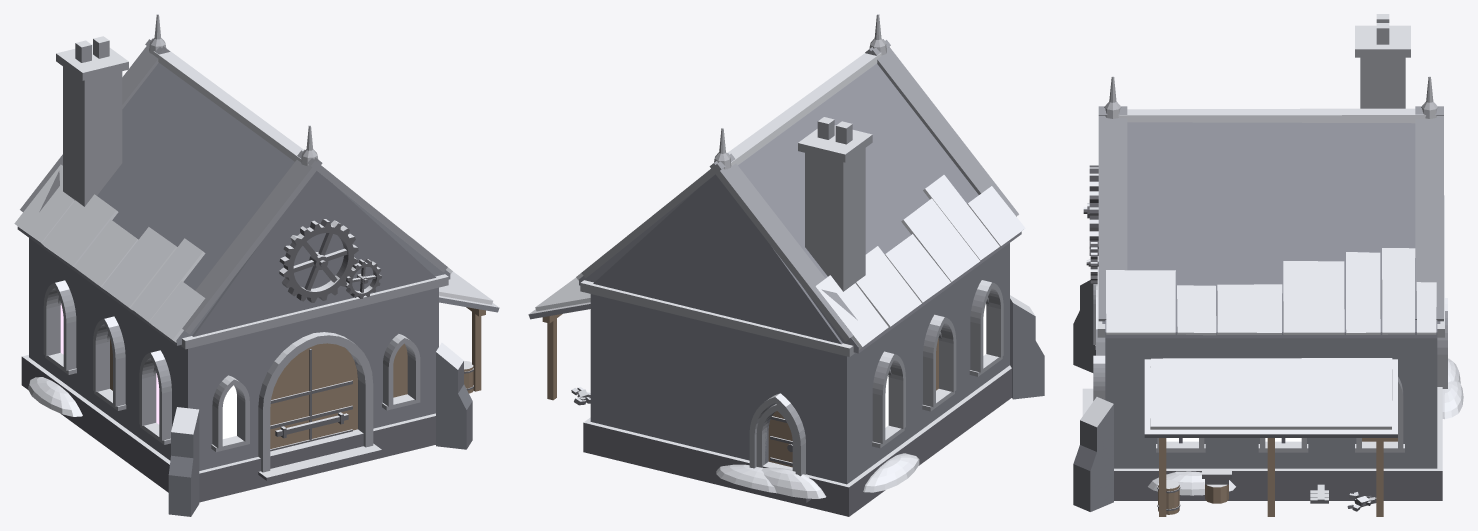
File: AR_Oficina.fbx
3 views of the same model, side by side, from view 1: azimuth 30°, elevation 25°; view 2: azimuth 150°, elevation 25°; view 3: azimuth 270°, elevation 25° (orthographic). The views are drawn at different scales.
Visible parts, largest first — view 1: AR_Oficina; view 2: AR_Oficina; view 3: AR_Oficina.
Boxes of the visible parts, bbox=[...] form: AR_Oficina: bbox=[14, 14, 499, 516]; AR_Oficina: bbox=[528, 14, 1044, 516]; AR_Oficina: bbox=[1073, 14, 1463, 516].
Bounding box in the file's own units: 14.23 × 13.5 × 12.93.
